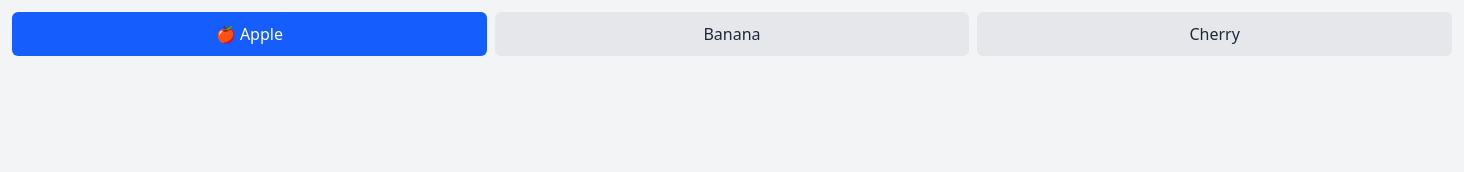
SegmentedControl › selects an option on click
Click the radio button labelled "Banana" at (732, 34), box [495,12,969,56]
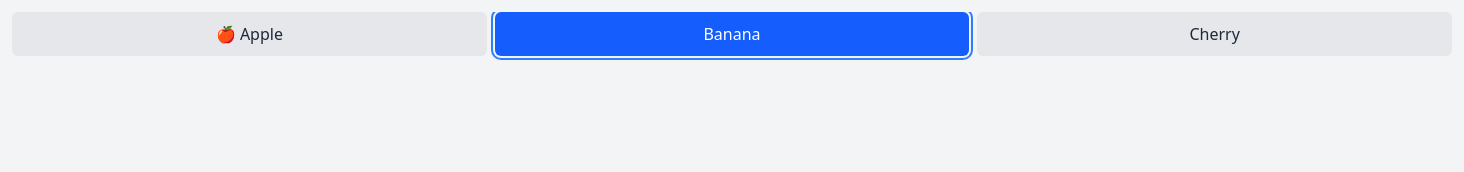
Result: the radio button labelled "Banana" is checked at [495,12,969,56]
Result: the radio button labelled "🍎 Apple" is not checked at [12,12,487,56]
